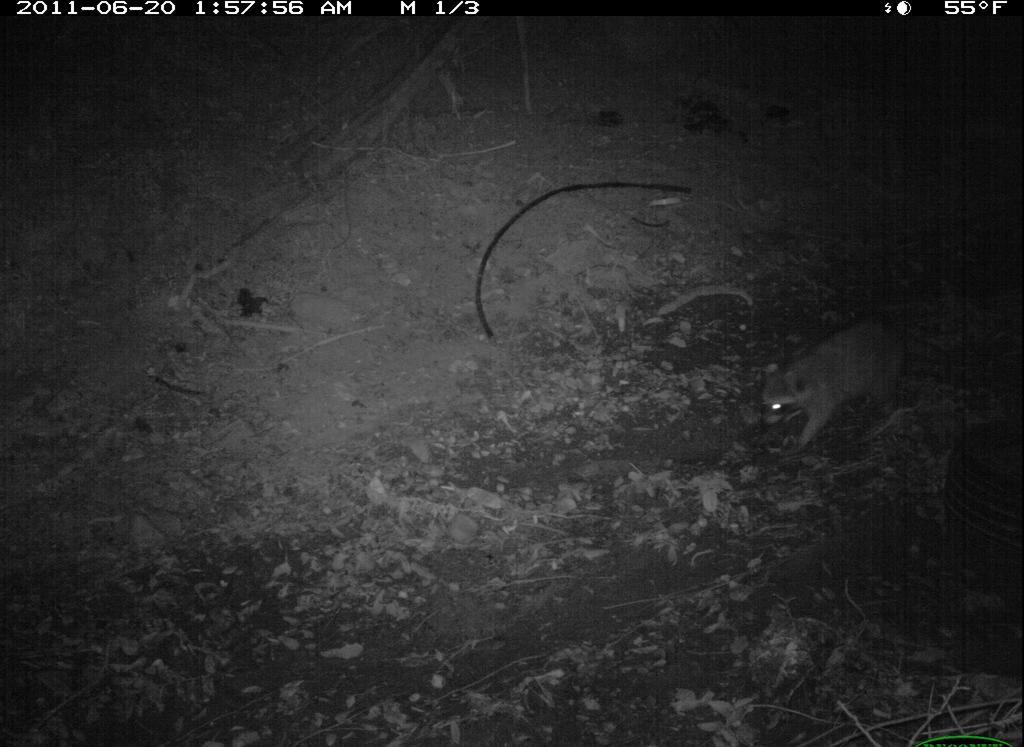raccoon: (742, 308, 948, 456)
